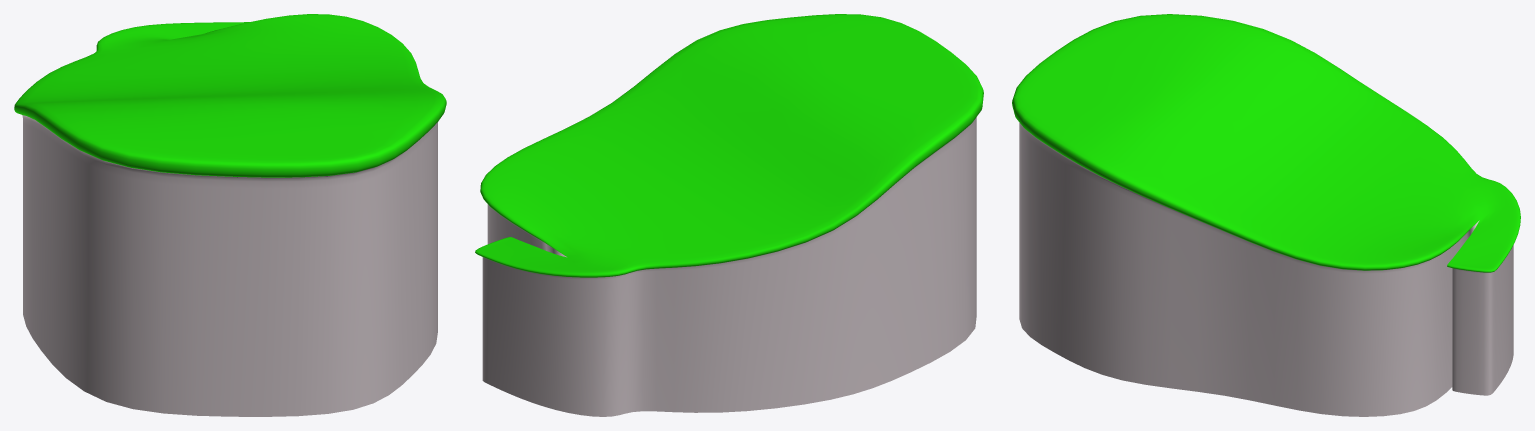
File: SM_PlatformSecondaire001.fbx
3 views of the same model, side by side, from view 1: azimuth 30°, elevation 25°; view 2: azimuth 150°, elevation 25°; view 3: azimuth 270°, elevation 25° (orthographic). The views are drawn at different scales.
Parts seen in each view (by area): view 1: NurbsPath.001; view 2: NurbsPath.001; view 3: NurbsPath.001.
Boxes of the visible parts, x1,y1,x2,y2 form: NurbsPath.001: [14, 14, 446, 416]; NurbsPath.001: [475, 14, 983, 416]; NurbsPath.001: [1012, 14, 1520, 416].
Bounding box in the file's own units: 6825 × 3939 × 8038.
